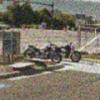motorcycles: (22, 43, 62, 62), (62, 42, 82, 64)
